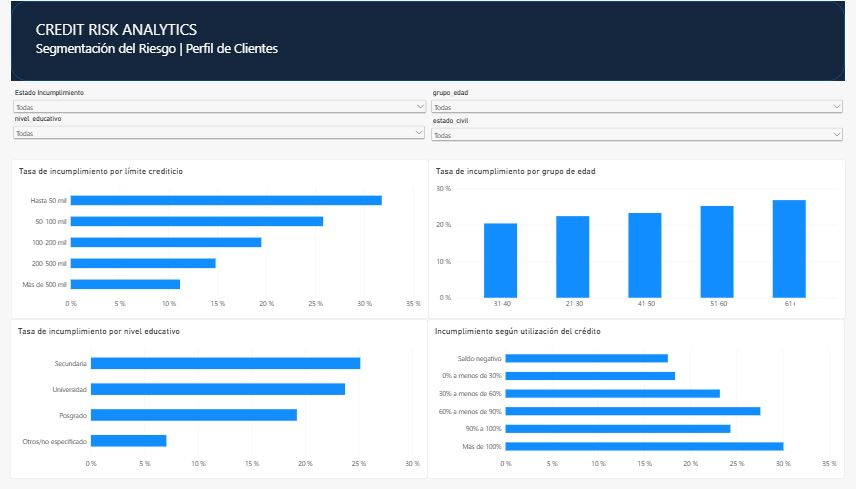

The page's visual inventory and layout, read from the dashboard file:
{"tool":"powerbi","page":{"name":"Segmentenación del riesgo","canvas":[1920,1080],"ordinal":1},"visuals":[{"type":"group","id":"g1","title":"Grupo 2","box":[72.5,15,1772.5,170],"z":0},{"type":"clusteredBarChart","title":"Tasa de incumplimiento por límite crediticio","fields":{"Category":["public vw_credit_risk.rango_credito"],"Y":["public vw_credit_risk.Tasa de Incumplimiento"]},"box":[72,350,888,340.4],"z":1000},{"type":"clusteredColumnChart","title":"Tasa de incumplimiento por grupo de edad","fields":{"Category":["public vw_credit_risk.grupo_edad"],"Y":["public vw_credit_risk.Tasa de Incumplimiento"]},"box":[958,350,888,340],"z":2000},{"type":"shape","box":[72.5,15,1772.5,170],"z":3000,"group":"g1"},{"type":"clusteredBarChart","title":"Tasa de incumplimiento por nivel educativo","fields":{"Category":["public vw_credit_risk.nivel_educativo"],"Y":["public vw_credit_risk.Tasa de Incumplimiento"]},"box":[70,690,888,340],"z":3000},{"type":"textbox","box":[126,34,982,100],"z":4000,"group":"g1"},{"type":"clusteredBarChart","title":"Incumplimiento según utilización del crédito","fields":{"Category":["public vw_credit_risk.grupo_utilizacion"],"Y":["public vw_credit_risk.Tasa de Incumplimiento"]},"box":[957.5,690,888,340],"z":4000},{"type":"slicer","fields":{"Values":["public vw_credit_risk.Estado Incumplimiento"]},"box":[72,202,888,76],"z":5002},{"type":"slicer","fields":{"Values":["public vw_credit_risk.grupo_edad"]},"box":[960,202.5,885,52.5],"z":5003},{"type":"slicer","fields":{"Values":["public vw_credit_risk.nivel_educativo"]},"box":[73.3,256.7,885,66.7],"z":5004},{"type":"slicer","fields":{"Values":["public vw_credit_risk.estado_civil"]},"box":[960,262.5,885,52.5],"z":5005}]}

Visuals, with their boxes in screenshot pixels (x1, y1, x2, y2), scaled from the page's 1920x1080 canvas onto the 856x489 screenshot:
"Grupo 2" group: select_region(32, 7, 823, 84)
"Tasa de incumplimiento por límite crediticio" clusteredBarChart: select_region(32, 158, 428, 313)
"Tasa de incumplimiento por grupo de edad" clusteredColumnChart: select_region(427, 158, 823, 312)
shape: select_region(32, 7, 823, 84)
"Tasa de incumplimiento por nivel educativo" clusteredBarChart: select_region(31, 312, 427, 466)
textbox: select_region(56, 15, 494, 61)
"Incumplimiento según utilización del crédito" clusteredBarChart: select_region(427, 312, 823, 466)
slicer - public vw_credit_risk.Estado Incumplimiento: select_region(32, 91, 428, 126)
slicer - public vw_credit_risk.grupo_edad: select_region(428, 92, 823, 115)
slicer - public vw_credit_risk.nivel_educativo: select_region(33, 116, 427, 146)
slicer - public vw_credit_risk.estado_civil: select_region(428, 119, 823, 143)
